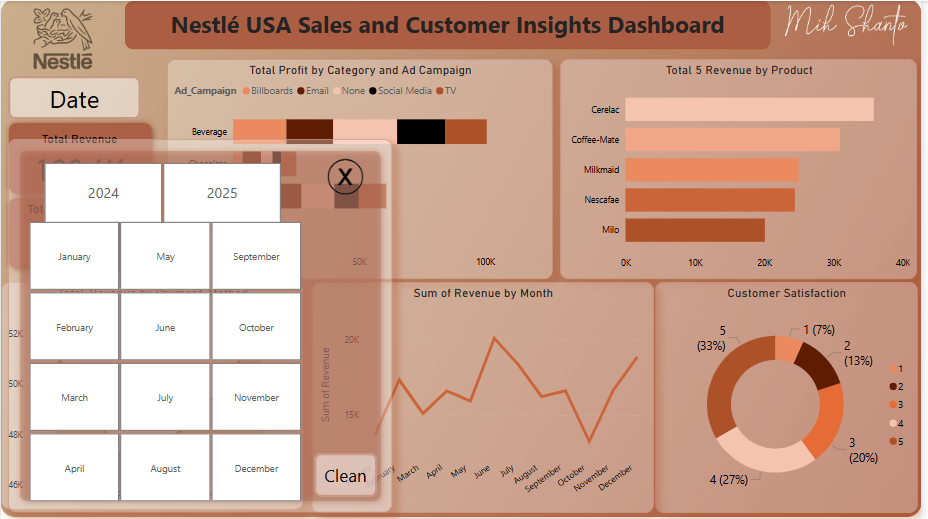

The page's visual inventory and layout, read from the dashboard file:
{"tool":"powerbi","page":{"name":"Page 1","canvas":[1280,720],"ordinal":0},"visuals":[{"type":"barChart","title":"Total Profit by Category and Ad Campaign","fields":{"Category":["SalesData.Category"],"Series":["SalesData.Ad_Campaign"],"Y":["Measures .Total_Revenue"]},"box":[231.4,80.5,536,306.1],"z":0},{"type":"shape","box":[0,262.2,219.7,120.1],"z":1000},{"type":"card","title":"Total Sold Products","fields":{"Values":["Sum(SalesData.Units_Sold)"]},"box":[4.4,278.3,209.4,92.3],"z":2000},{"type":"clusteredBarChart","title":"Total 5 Revenue by Product","fields":{"Y":["Measures .Total_Revenue"],"Category":["SalesData.Product_Name"]},"box":[777.7,80.5,496.5,306.1],"z":3000},{"type":"shape","box":[0,158.2,220,120],"z":4000},{"type":"textbox","box":[172.4,0,896.5,66.7],"z":5000},{"type":"image","box":[0,0,172.4,104.2],"z":6000},{"type":"image","box":[1068.9,0,211.3,66.7],"z":7000},{"type":"actionButton","box":[10.3,104,184.5,60],"z":8000},{"type":"card","title":"Total Revenue","fields":{"Values":["Measures .Total_Revenue"]},"box":[10.3,180.1,199.2,82],"z":9000},{"type":"donutChart","title":"Customer Satisfaction ","fields":{"Category":["SalesData.Customer_Satisfaction"],"Y":["Median(SalesData.Customer_Satisfaction)"]},"box":[909.5,391,364.7,320.7],"z":11000},{"type":"lineChart","fields":{"Category":["SalesData.Date.Variation.Date Hierarchy.Month"],"Y":["Sum(SalesData.Revenue)"]},"box":[432,391,474.5,320.7],"z":12000},{"type":"areaChart","fields":{"Category":["SalesData.Payment_Method"],"Y":["Measures .Total_Revenue"]},"box":[0,391,420.3,316.3],"z":13000}]}

Visuals, with their boxes in screenshot pixels (x1, y1, x2, y2), scaled from the page's 1280x720 canvas onto the 928x519 screenshot:
"Total Profit by Category and Ad Campaign" barChart: (x1=168, y1=58, x2=556, y2=279)
shape: (x1=0, y1=189, x2=159, y2=276)
"Total Sold Products" card: (x1=3, y1=201, x2=155, y2=267)
"Total 5 Revenue by Product" clusteredBarChart: (x1=564, y1=58, x2=924, y2=279)
shape: (x1=0, y1=114, x2=160, y2=201)
textbox: (x1=125, y1=0, x2=775, y2=48)
image: (x1=0, y1=0, x2=125, y2=75)
image: (x1=775, y1=0, x2=927, y2=48)
actionButton: (x1=7, y1=75, x2=141, y2=118)
"Total Revenue" card: (x1=7, y1=130, x2=152, y2=189)
"Customer Satisfaction " donutChart: (x1=659, y1=282, x2=924, y2=513)
lineChart - SalesData.Date.Variation.Date Hierarchy.Month x Sum(SalesData.Revenue): (x1=313, y1=282, x2=657, y2=513)
areaChart - SalesData.Payment_Method x Measures .Total_Revenue: (x1=0, y1=282, x2=305, y2=510)
